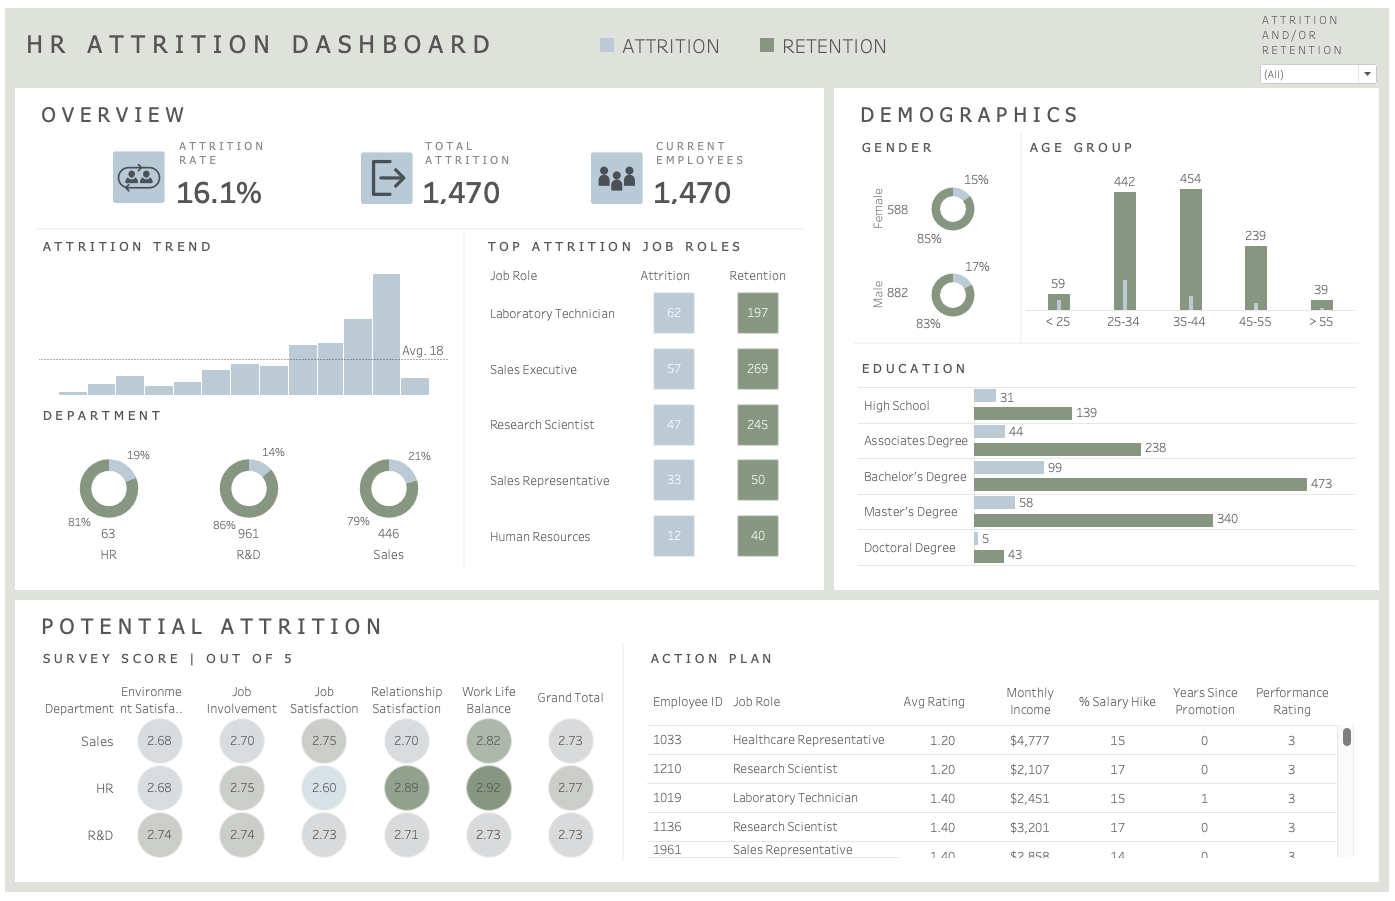

The page's visual inventory and layout, read from the dashboard file:
{"tool":"tableau","page":{"name":"Dashboard","canvas":[1400,900],"ordinal":0},"visuals":[{"type":"title","box":[8,8,1384,70]},{"type":"filter","title":"Age Group","param":"[federated.05j07o51a9v3ul13aijys15hxtp7].[none:Calculation_969681346417168386:nk","box":[1260,12,123,88]},{"type":"legend","title":"Gender","param":"[federated.05j07o51a9v3ul13aijys15hxtp7].[none:Attrition:nk]","box":[597,32,322,28]},{"type":"text","box":[38,98,768.9,33]},{"type":"text","box":[856.9,98,505.1,33]},{"type":"blank","box":[38,131,133,77]},{"type":"worksheet","title":"KPI1","mark":"Automatic","box":[171,131,182,77]},{"type":"blank","box":[353,131,64,77]},{"type":"worksheet","title":"KPI2","mark":"Automatic","box":[417,131,133,77]},{"type":"blank","box":[550,131,98,77]},{"type":"worksheet","title":"KPI3","mark":"Automatic","box":[648,131,158.9,77]},{"type":"worksheet","title":"Gender","mark":"Pie","rows":["Gender"],"cols":["Calculation_4722516857875329026","Calculation_4722516857875447812"],"box":[856.9,131,166,211]},{"type":"blank","box":[1022.9,131,2,211]},{"type":"worksheet","title":"Age Group","mark":"Bar","rows":["EmployeeCount"],"box":[1024.9,131,337.1,211]},{"type":"image","param":"Image/2.png","box":[116,151,65,52]},{"type":"image","param":"Image/3.png","box":[364,152,66,52]},{"type":"image","param":"Image/1.png","box":[594,152,59,52]},{"type":"blank","box":[38,208,768.9,20]},{"type":"blank","box":[38,228,768.9,2]},{"type":"worksheet","title":"Attrition Trend","mark":"Bar","rows":["EmployeeCount"],"cols":["Attrition Date"],"box":[38,230,428,169]},{"type":"blank","box":[465.9,230,2,338]},{"type":"worksheet","title":"Job Role","mark":"Shape","rows":["JobRole"],"cols":["Calculation_969681346417168386"],"box":[467.9,230,339,338]},{"type":"blank","box":[702,267,20,17]},{"type":"blank","box":[621,308,18,15]},{"type":"blank","box":[856.9,342,505.1,2]},{"type":"worksheet","title":"Education","mark":"Automatic","rows":["Calculation_635570549120753665","Calculation_969681346417168386"],"cols":["EmployeeCount"],"box":[856.9,344,505.1,225.9]},{"type":"worksheet","title":"Dept %","mark":"Pie","rows":["Calculation_4722516857875329026","Calculation_4722516857875447812"],"cols":["Department"],"box":[38,399,428,169]},{"type":"text","box":[38,610,1324,32]},{"type":"worksheet","title":"Survey","mark":"Circle","rows":["Department"],"cols":["Survey"],"box":[38,642,586.9,220]},{"type":"blank","box":[624.9,642,2,220]},{"type":"worksheet","title":"Action Plan","mark":"Automatic","rows":["Employee ID","Job Role"],"box":[626.9,642,735,220]},{"type":"blank","box":[975,692,17,17]},{"type":"blank","box":[188,698,16,16]}]}

Visuals, with their boxes in screenshot pixels (x1, y1, x2, y2), scaled from the page's 1400x900 canvas onto the 1395x901 screenshot:
title: detection(8, 8, 1387, 78)
"Age Group" filter: detection(1256, 12, 1378, 100)
"Gender" legend: detection(595, 32, 916, 60)
text: detection(38, 98, 804, 131)
text: detection(854, 98, 1357, 131)
blank: detection(38, 131, 170, 208)
"KPI1" worksheet: detection(170, 131, 352, 208)
blank: detection(352, 131, 416, 208)
"KPI2" worksheet: detection(416, 131, 548, 208)
blank: detection(548, 131, 646, 208)
"KPI3" worksheet: detection(646, 131, 804, 208)
"Gender" worksheet (Pie marks): detection(854, 131, 1019, 342)
blank: detection(1019, 131, 1021, 342)
"Age Group" worksheet (Bar marks): detection(1021, 131, 1357, 342)
image: detection(116, 151, 180, 203)
image: detection(363, 152, 428, 204)
image: detection(592, 152, 651, 204)
blank: detection(38, 208, 804, 228)
blank: detection(38, 228, 804, 230)
"Attrition Trend" worksheet (Bar marks): detection(38, 230, 464, 399)
blank: detection(464, 230, 466, 569)
"Job Role" worksheet (Shape marks): detection(466, 230, 804, 569)
blank: detection(699, 267, 719, 284)
blank: detection(619, 308, 637, 323)
blank: detection(854, 342, 1357, 344)
"Education" worksheet: detection(854, 344, 1357, 571)
"Dept %" worksheet (Pie marks): detection(38, 399, 464, 569)
text: detection(38, 611, 1357, 643)
"Survey" worksheet (Circle marks): detection(38, 643, 623, 863)
blank: detection(623, 643, 625, 863)
"Action Plan" worksheet: detection(625, 643, 1357, 863)
blank: detection(972, 693, 988, 710)
blank: detection(187, 699, 203, 715)
